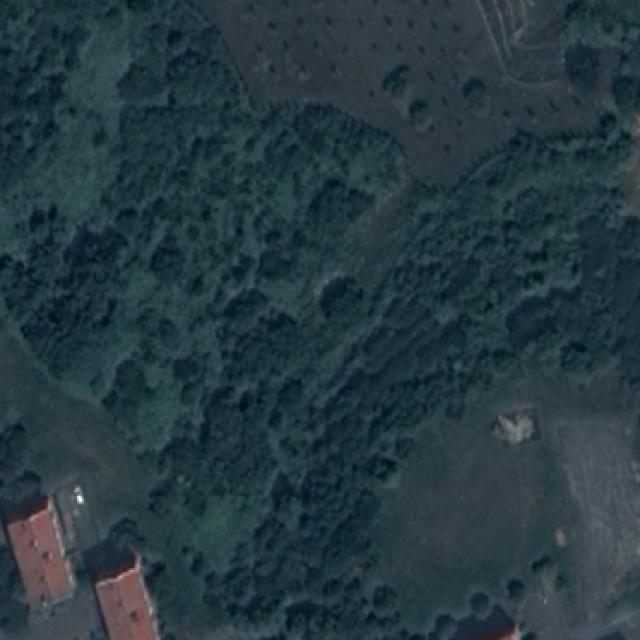Batiment: (1, 495, 74, 610), (84, 540, 157, 640)
